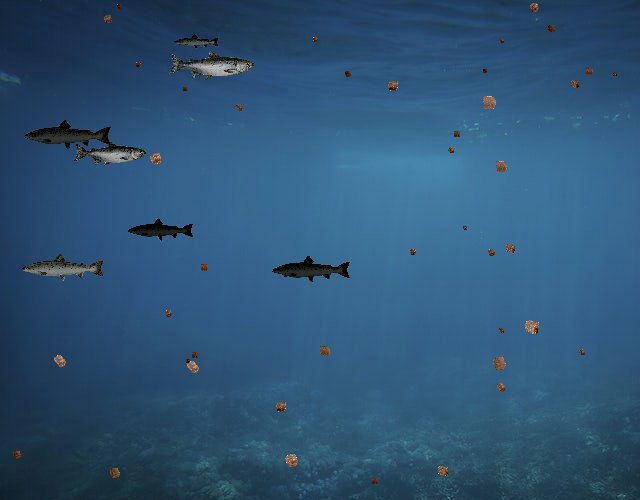Fish: (23, 119, 113, 151), (20, 252, 106, 283), (168, 50, 254, 81), (272, 255, 353, 284), (73, 140, 146, 167), (128, 218, 196, 242), (174, 33, 221, 50)
Pellet: (475, 88, 503, 116), (489, 155, 513, 179), (491, 377, 511, 397), (524, 0, 544, 17), (368, 474, 382, 488), (309, 33, 322, 46), (460, 222, 470, 232)
